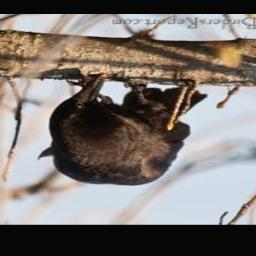Crow: (33, 73, 210, 188)
